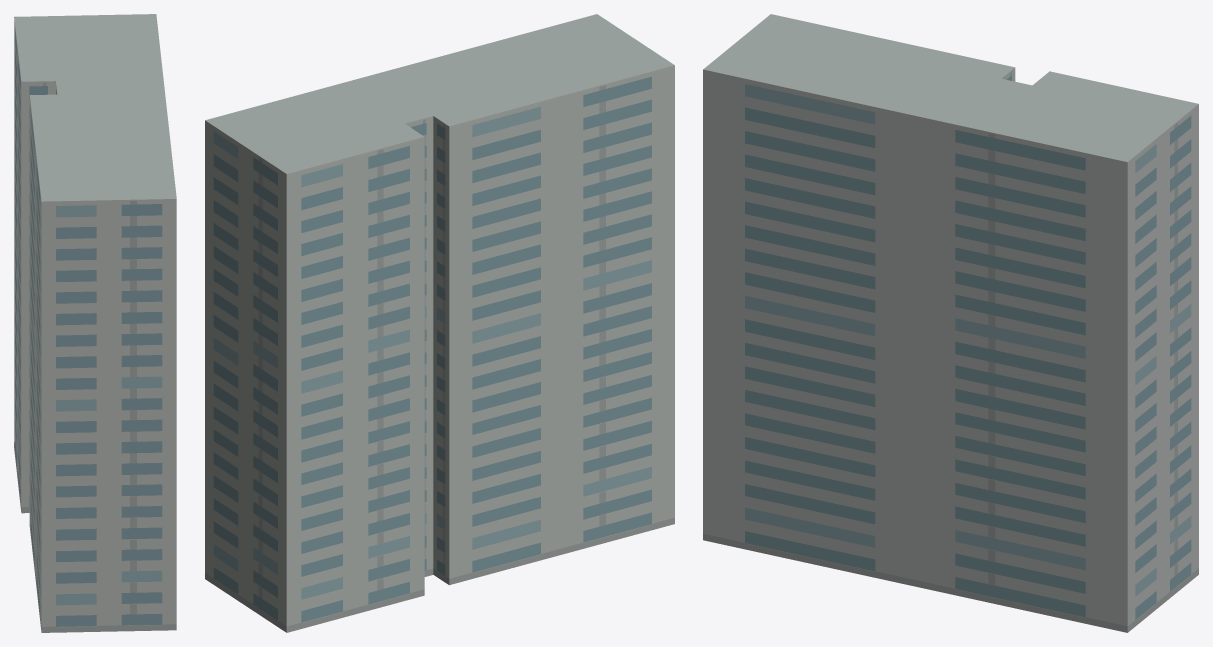
Rendered from residential-79aa138c-4a7f-421e-a366-1b166bd166c4.glb.
The picture shows the model from 3 angles, left to right: view 1: azimuth 30°, elevation 25°; view 2: azimuth 150°, elevation 25°; view 3: azimuth 270°, elevation 25°; orthographic projection. The views are drawn at different scales.
Visible parts, largest first — view 1: residential-79aa138c-4a7f-421e-a366-1b166bd166c4.tmp; view 2: residential-79aa138c-4a7f-421e-a366-1b166bd166c4.tmp; view 3: residential-79aa138c-4a7f-421e-a366-1b166bd166c4.tmp.
Part boxes in pixels (<box>): residential-79aa138c-4a7f-421e-a366-1b166bd166c4.tmp: <box>14,14,176,632</box>; residential-79aa138c-4a7f-421e-a366-1b166bd166c4.tmp: <box>205,14,674,632</box>; residential-79aa138c-4a7f-421e-a366-1b166bd166c4.tmp: <box>703,14,1198,632</box>.
Size of the model in its own units: 53.35 by 79 by 75.43.
